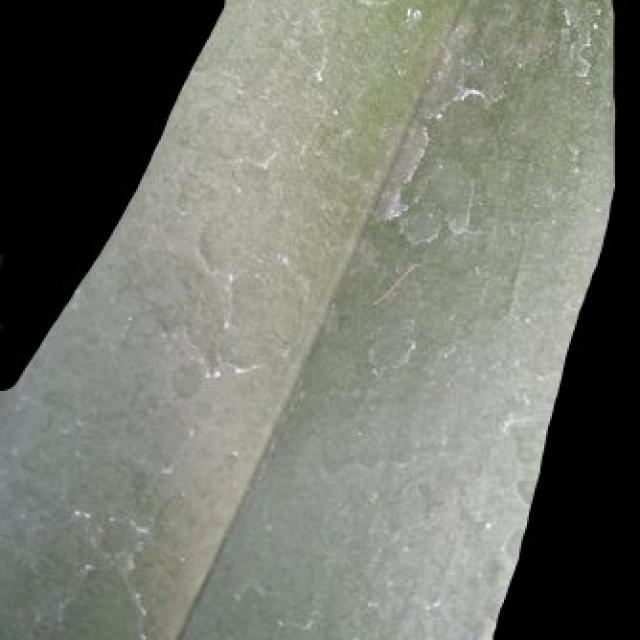mite: (0, 238, 59, 393), (0, 243, 31, 391), (335, 0, 454, 29), (0, 245, 23, 343), (0, 314, 25, 391), (0, 245, 10, 391), (316, 0, 448, 10), (0, 310, 8, 391), (400, 2, 423, 27), (0, 312, 6, 341)
